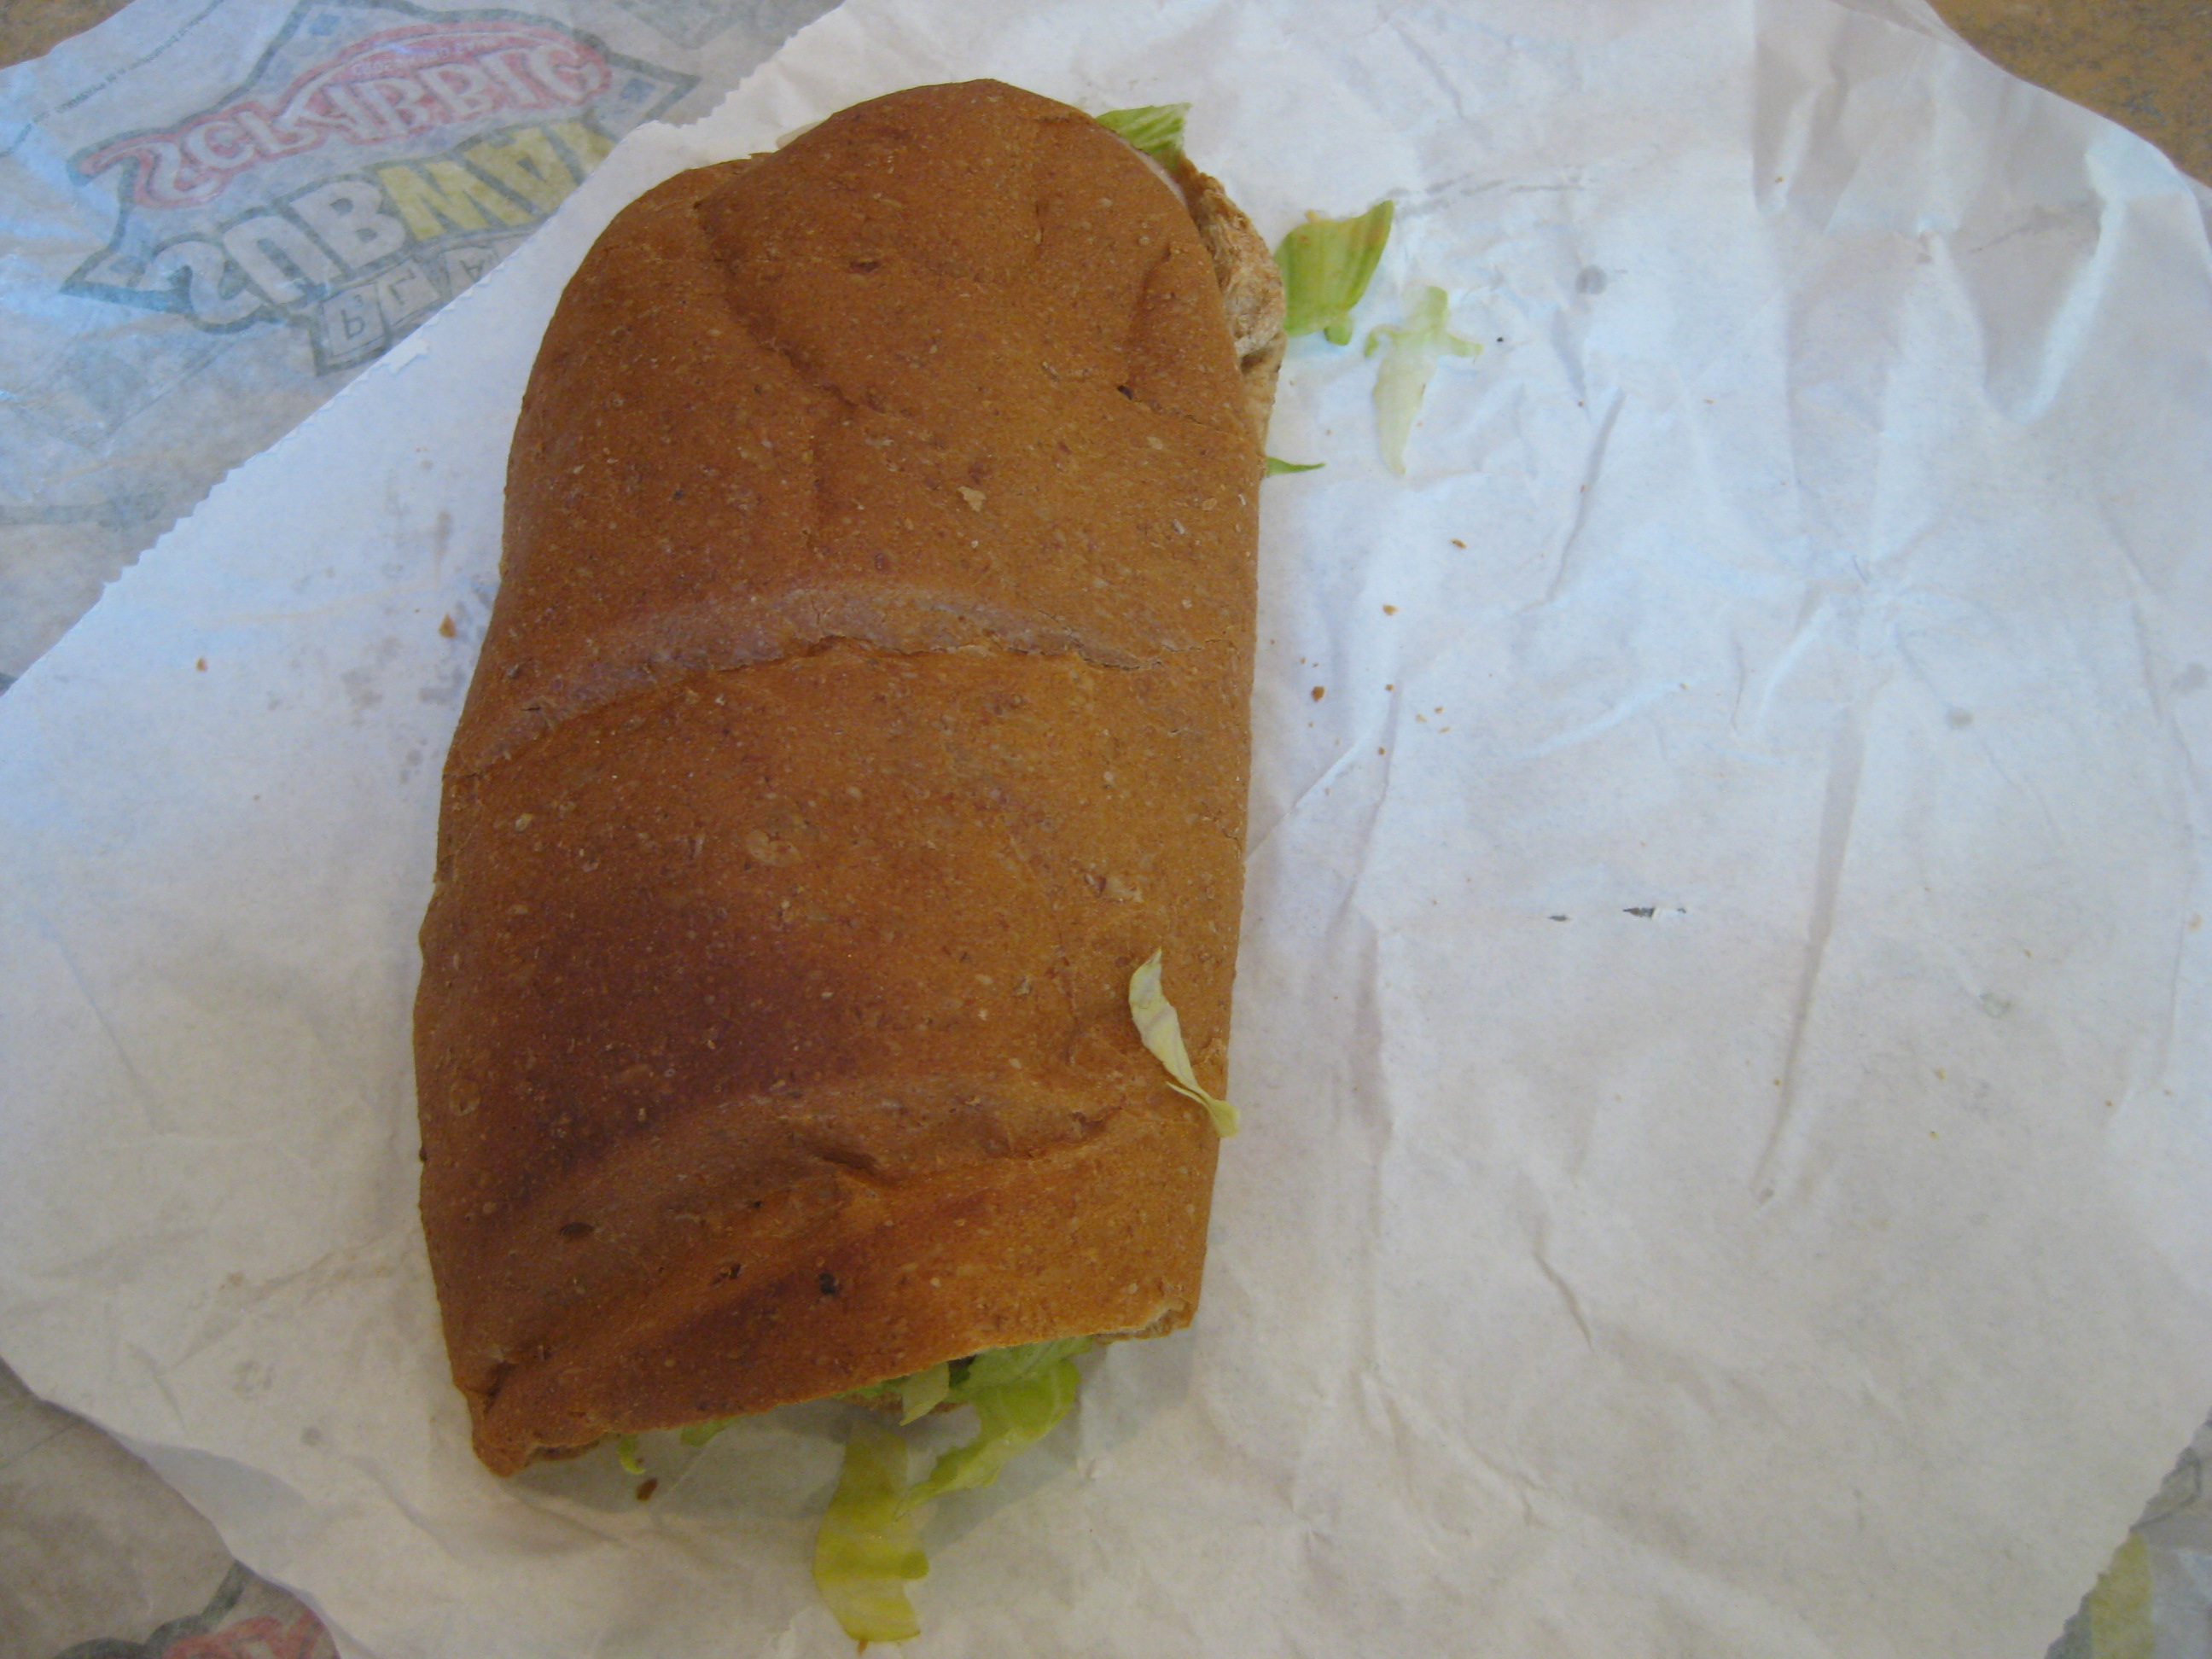sub: (420, 76, 1324, 1535)
